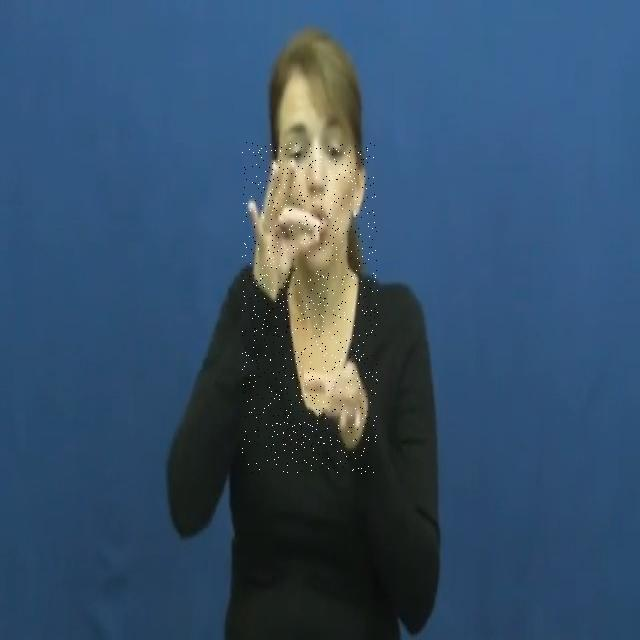straw: (242, 142, 378, 474)
